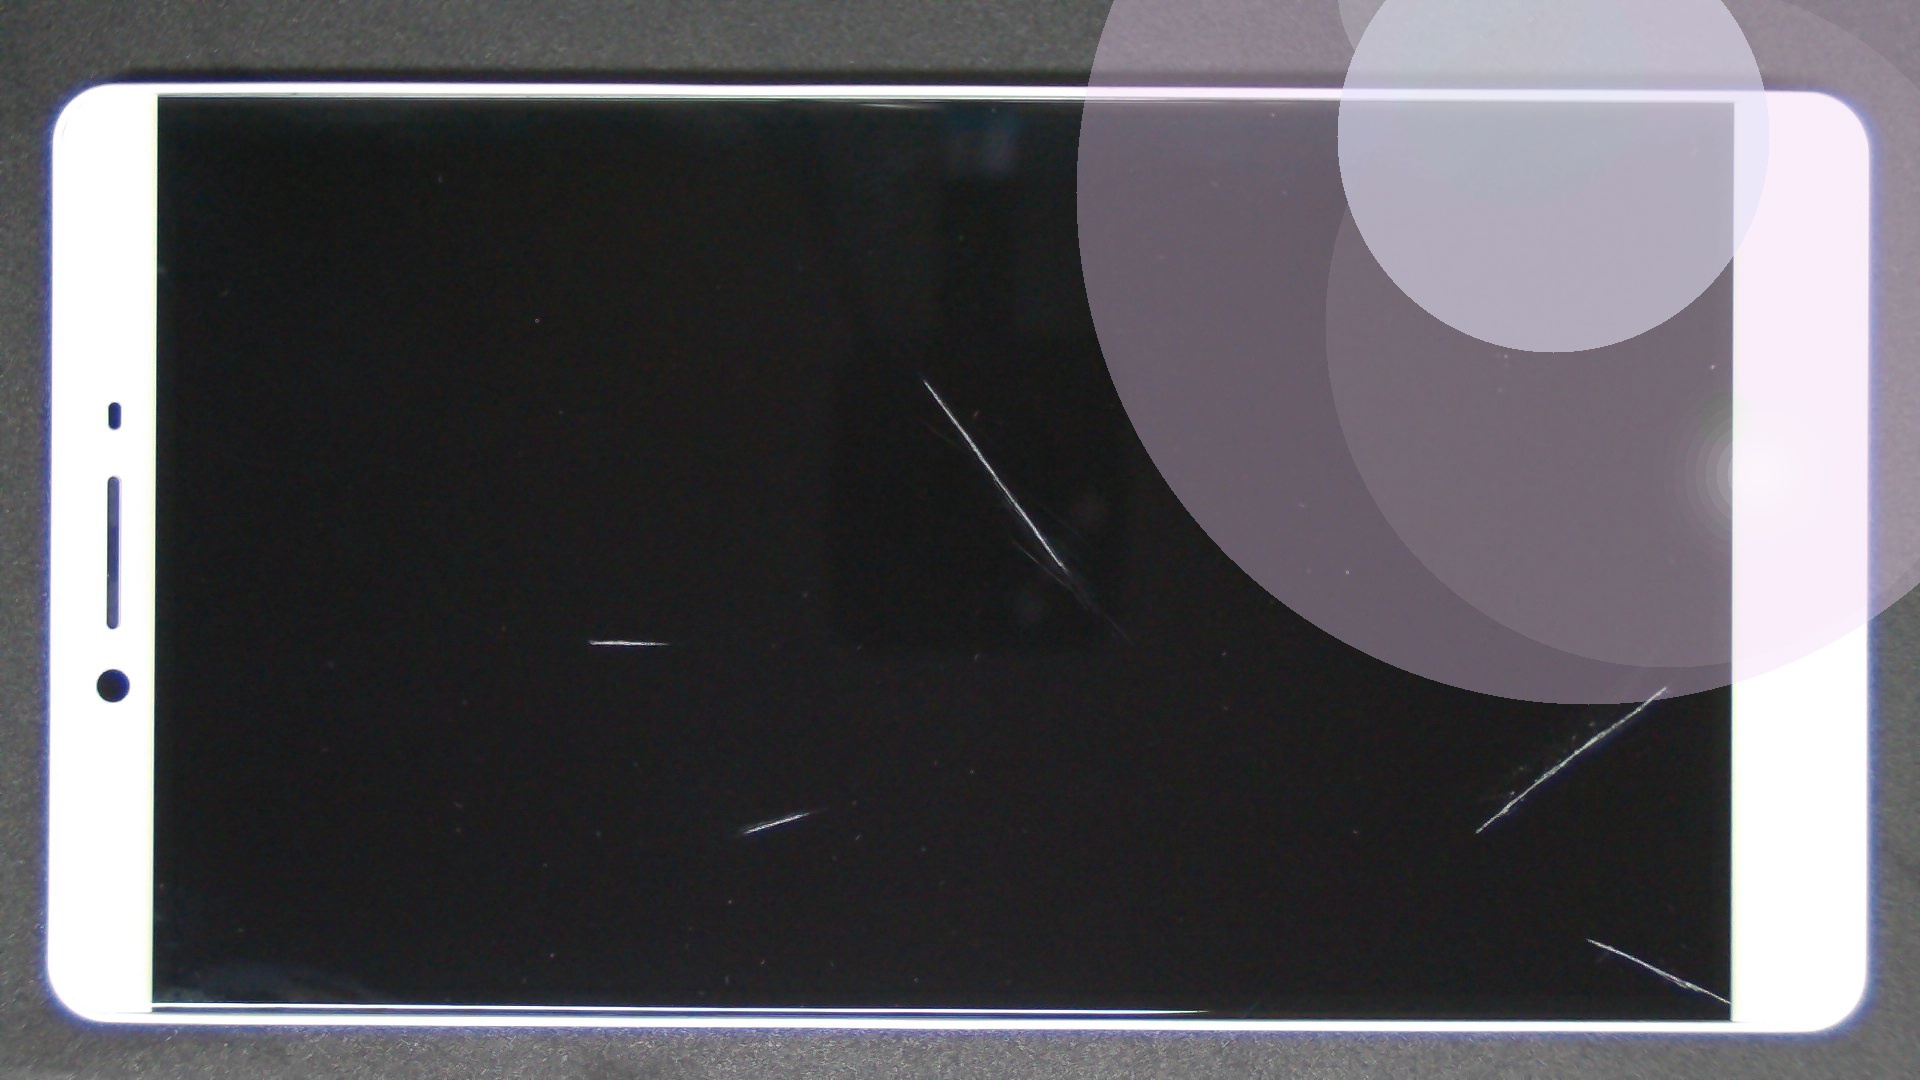oil: (833, 343, 1920, 1030), (795, 468, 1920, 1080), (405, 405, 1213, 1080), (295, 319, 884, 959), (464, 190, 1390, 572)
